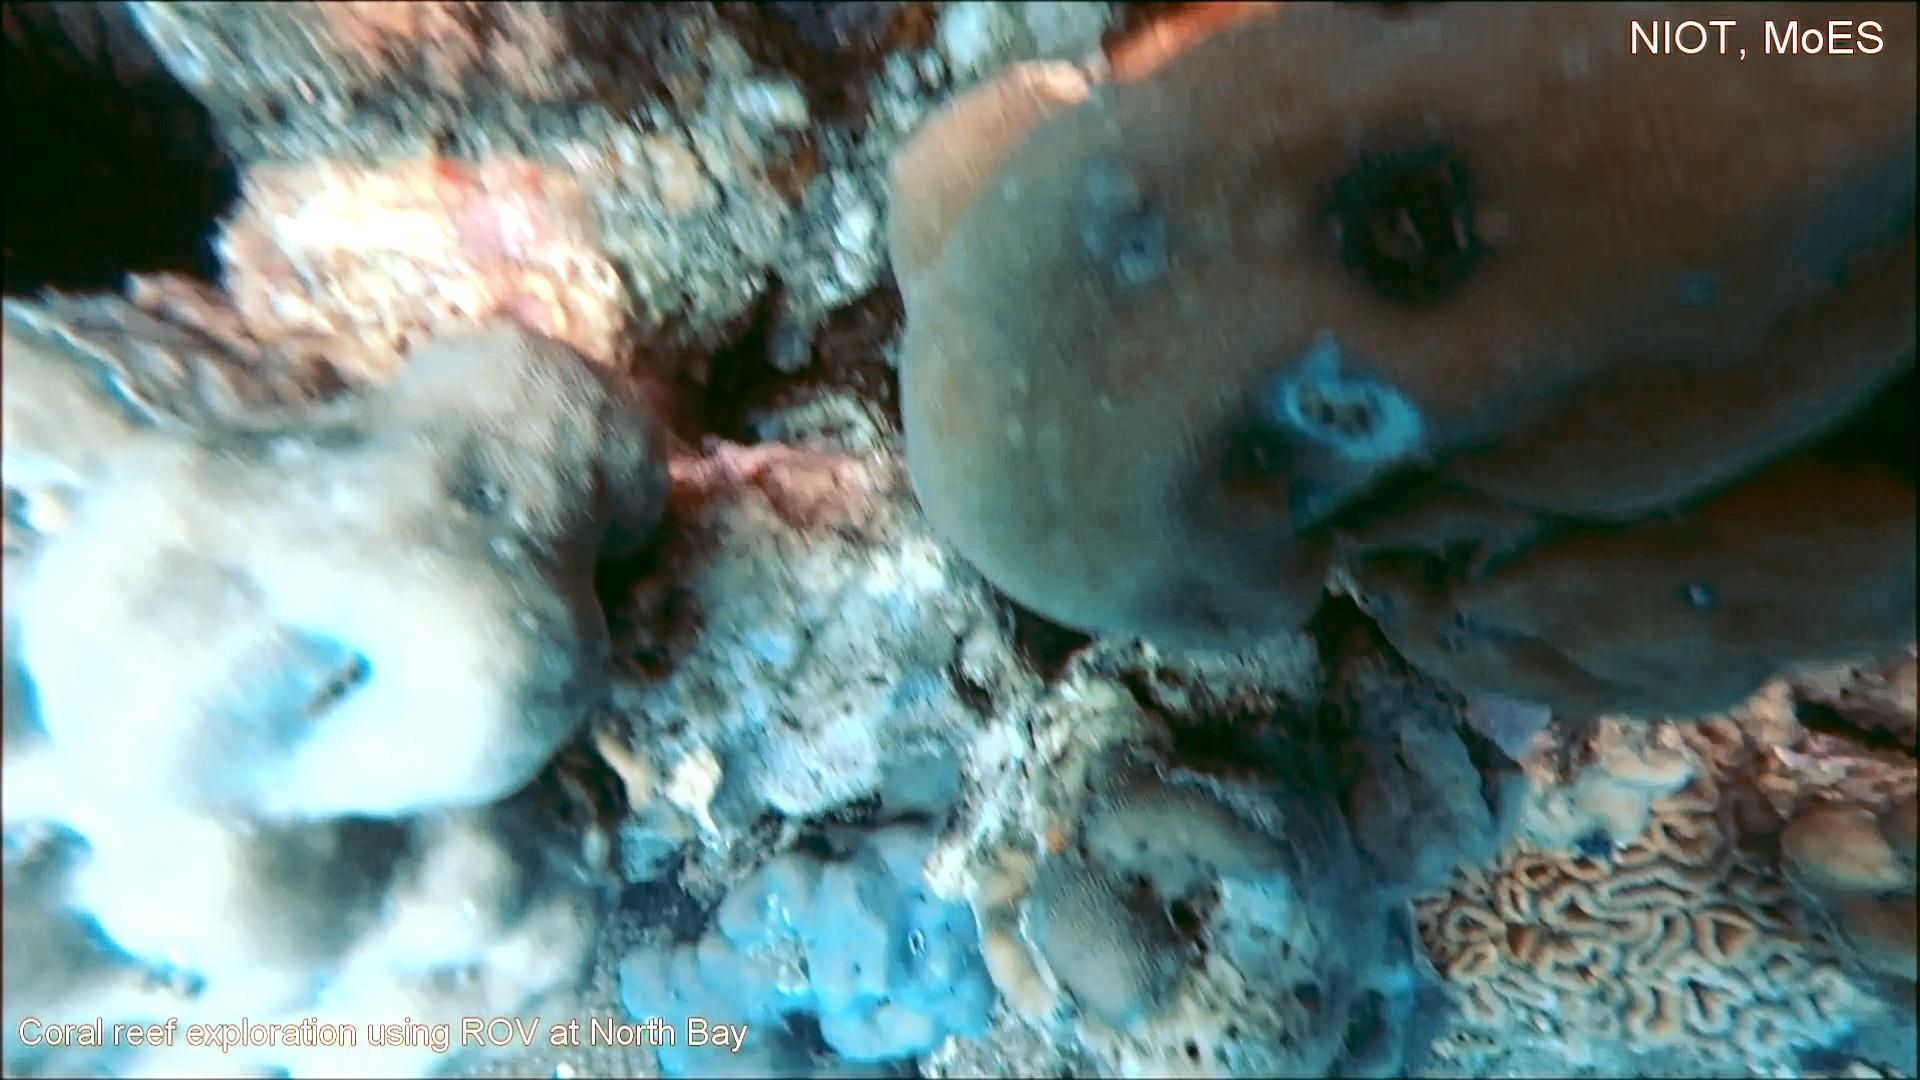Lobophyllia: (1402, 703, 1891, 1080)
